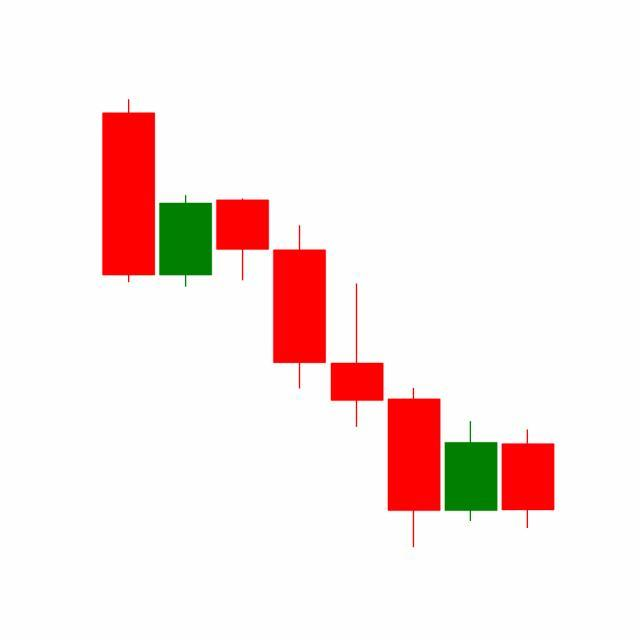Hikkake Pattern: (270, 221, 555, 549)
